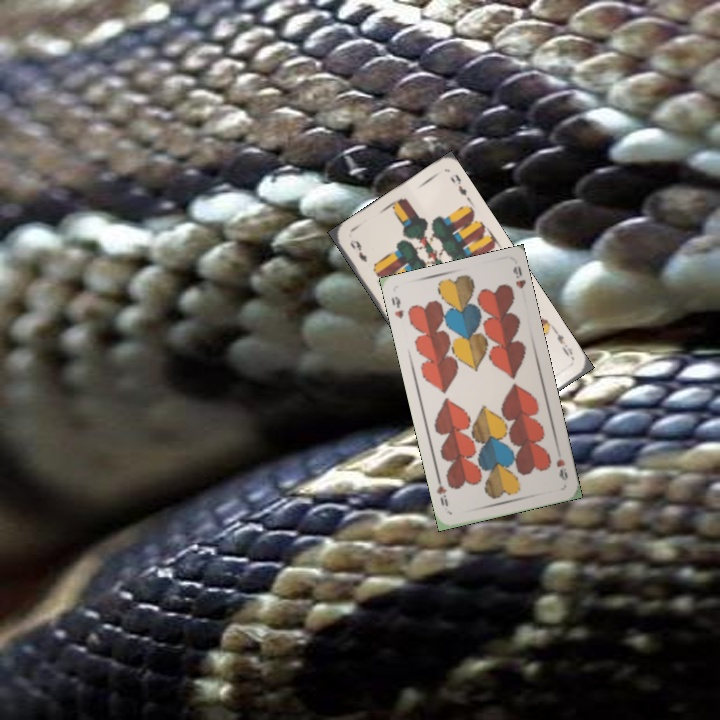E9: (550, 325, 577, 362), (346, 236, 370, 265)
H9: (552, 454, 571, 483), (387, 292, 406, 321)
